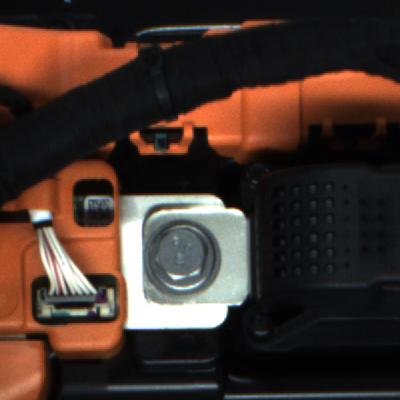nut_b: (140, 216, 224, 303)
